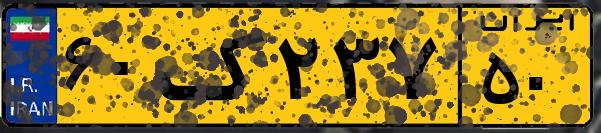0: (525, 38, 570, 115), (110, 28, 158, 98)
2: (270, 28, 330, 110)
3: (330, 28, 385, 110)
5: (475, 38, 525, 113)
6: (57, 26, 110, 100)
7: (385, 28, 445, 110)
ک: (158, 12, 270, 120)
